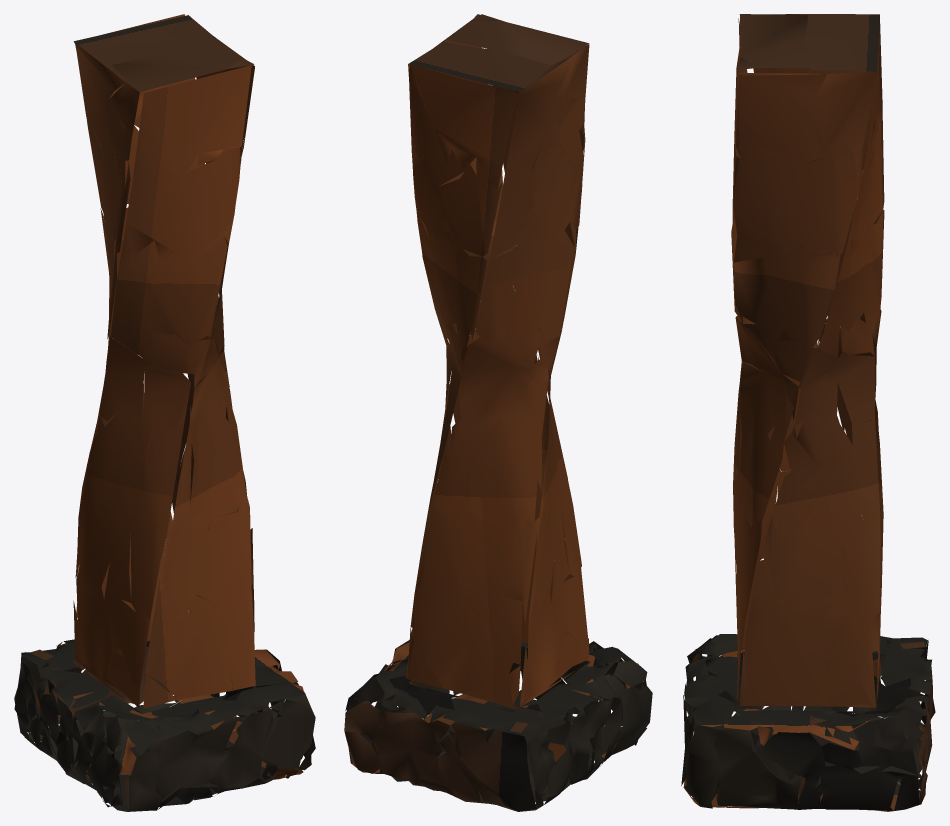
Rendered from monolith.glb.
3 renders of one model, left to right at view 1: azimuth 30°, elevation 25°; view 2: azimuth 150°, elevation 25°; view 3: azimuth 270°, elevation 25°, orthographic. The views are drawn at different scales.
Visible parts, largest first — view 1: LO.001; view 2: LO.001; view 3: LO.001.
Boxes of the visible parts, x1=… form: LO.001: x1=14, y1=14, x2=315, y2=811; LO.001: x1=344, y1=14, x2=652, y2=811; LO.001: x1=681, y1=14, x2=935, y2=811.
Size of the model in its own units: 0.3024 by 0.9802 by 0.3124.
Materials: 1 (1 with a texture image).
